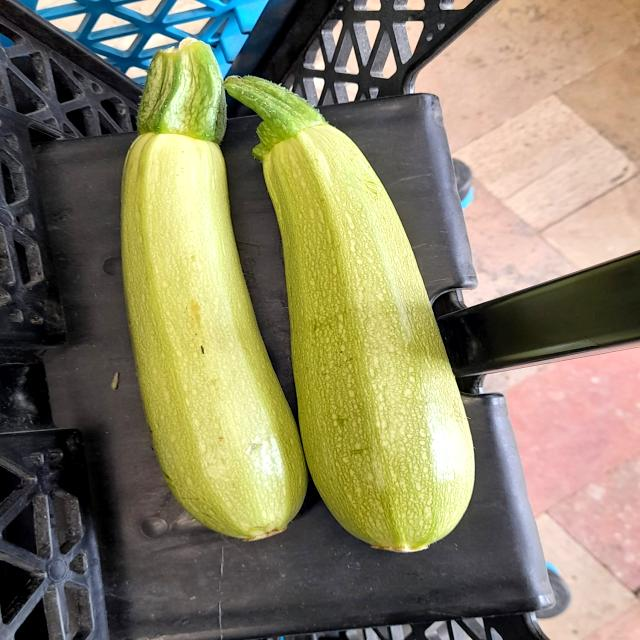zucchini: (220, 66, 480, 556), (111, 34, 310, 545)
